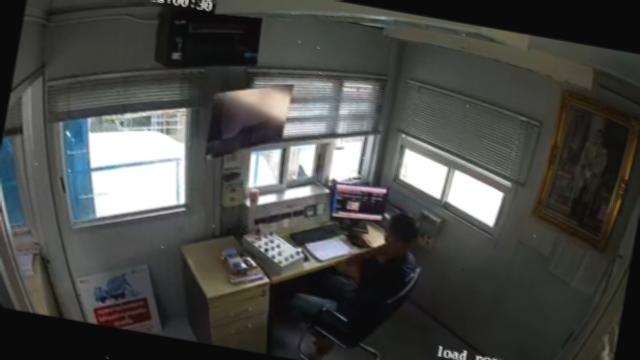Head: (374, 208, 426, 261)
People: (291, 214, 419, 329)
